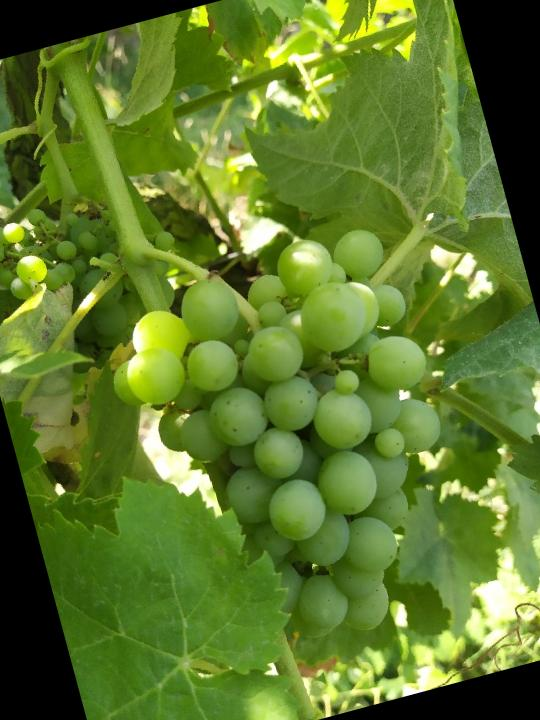grape: (87, 216, 491, 682)
